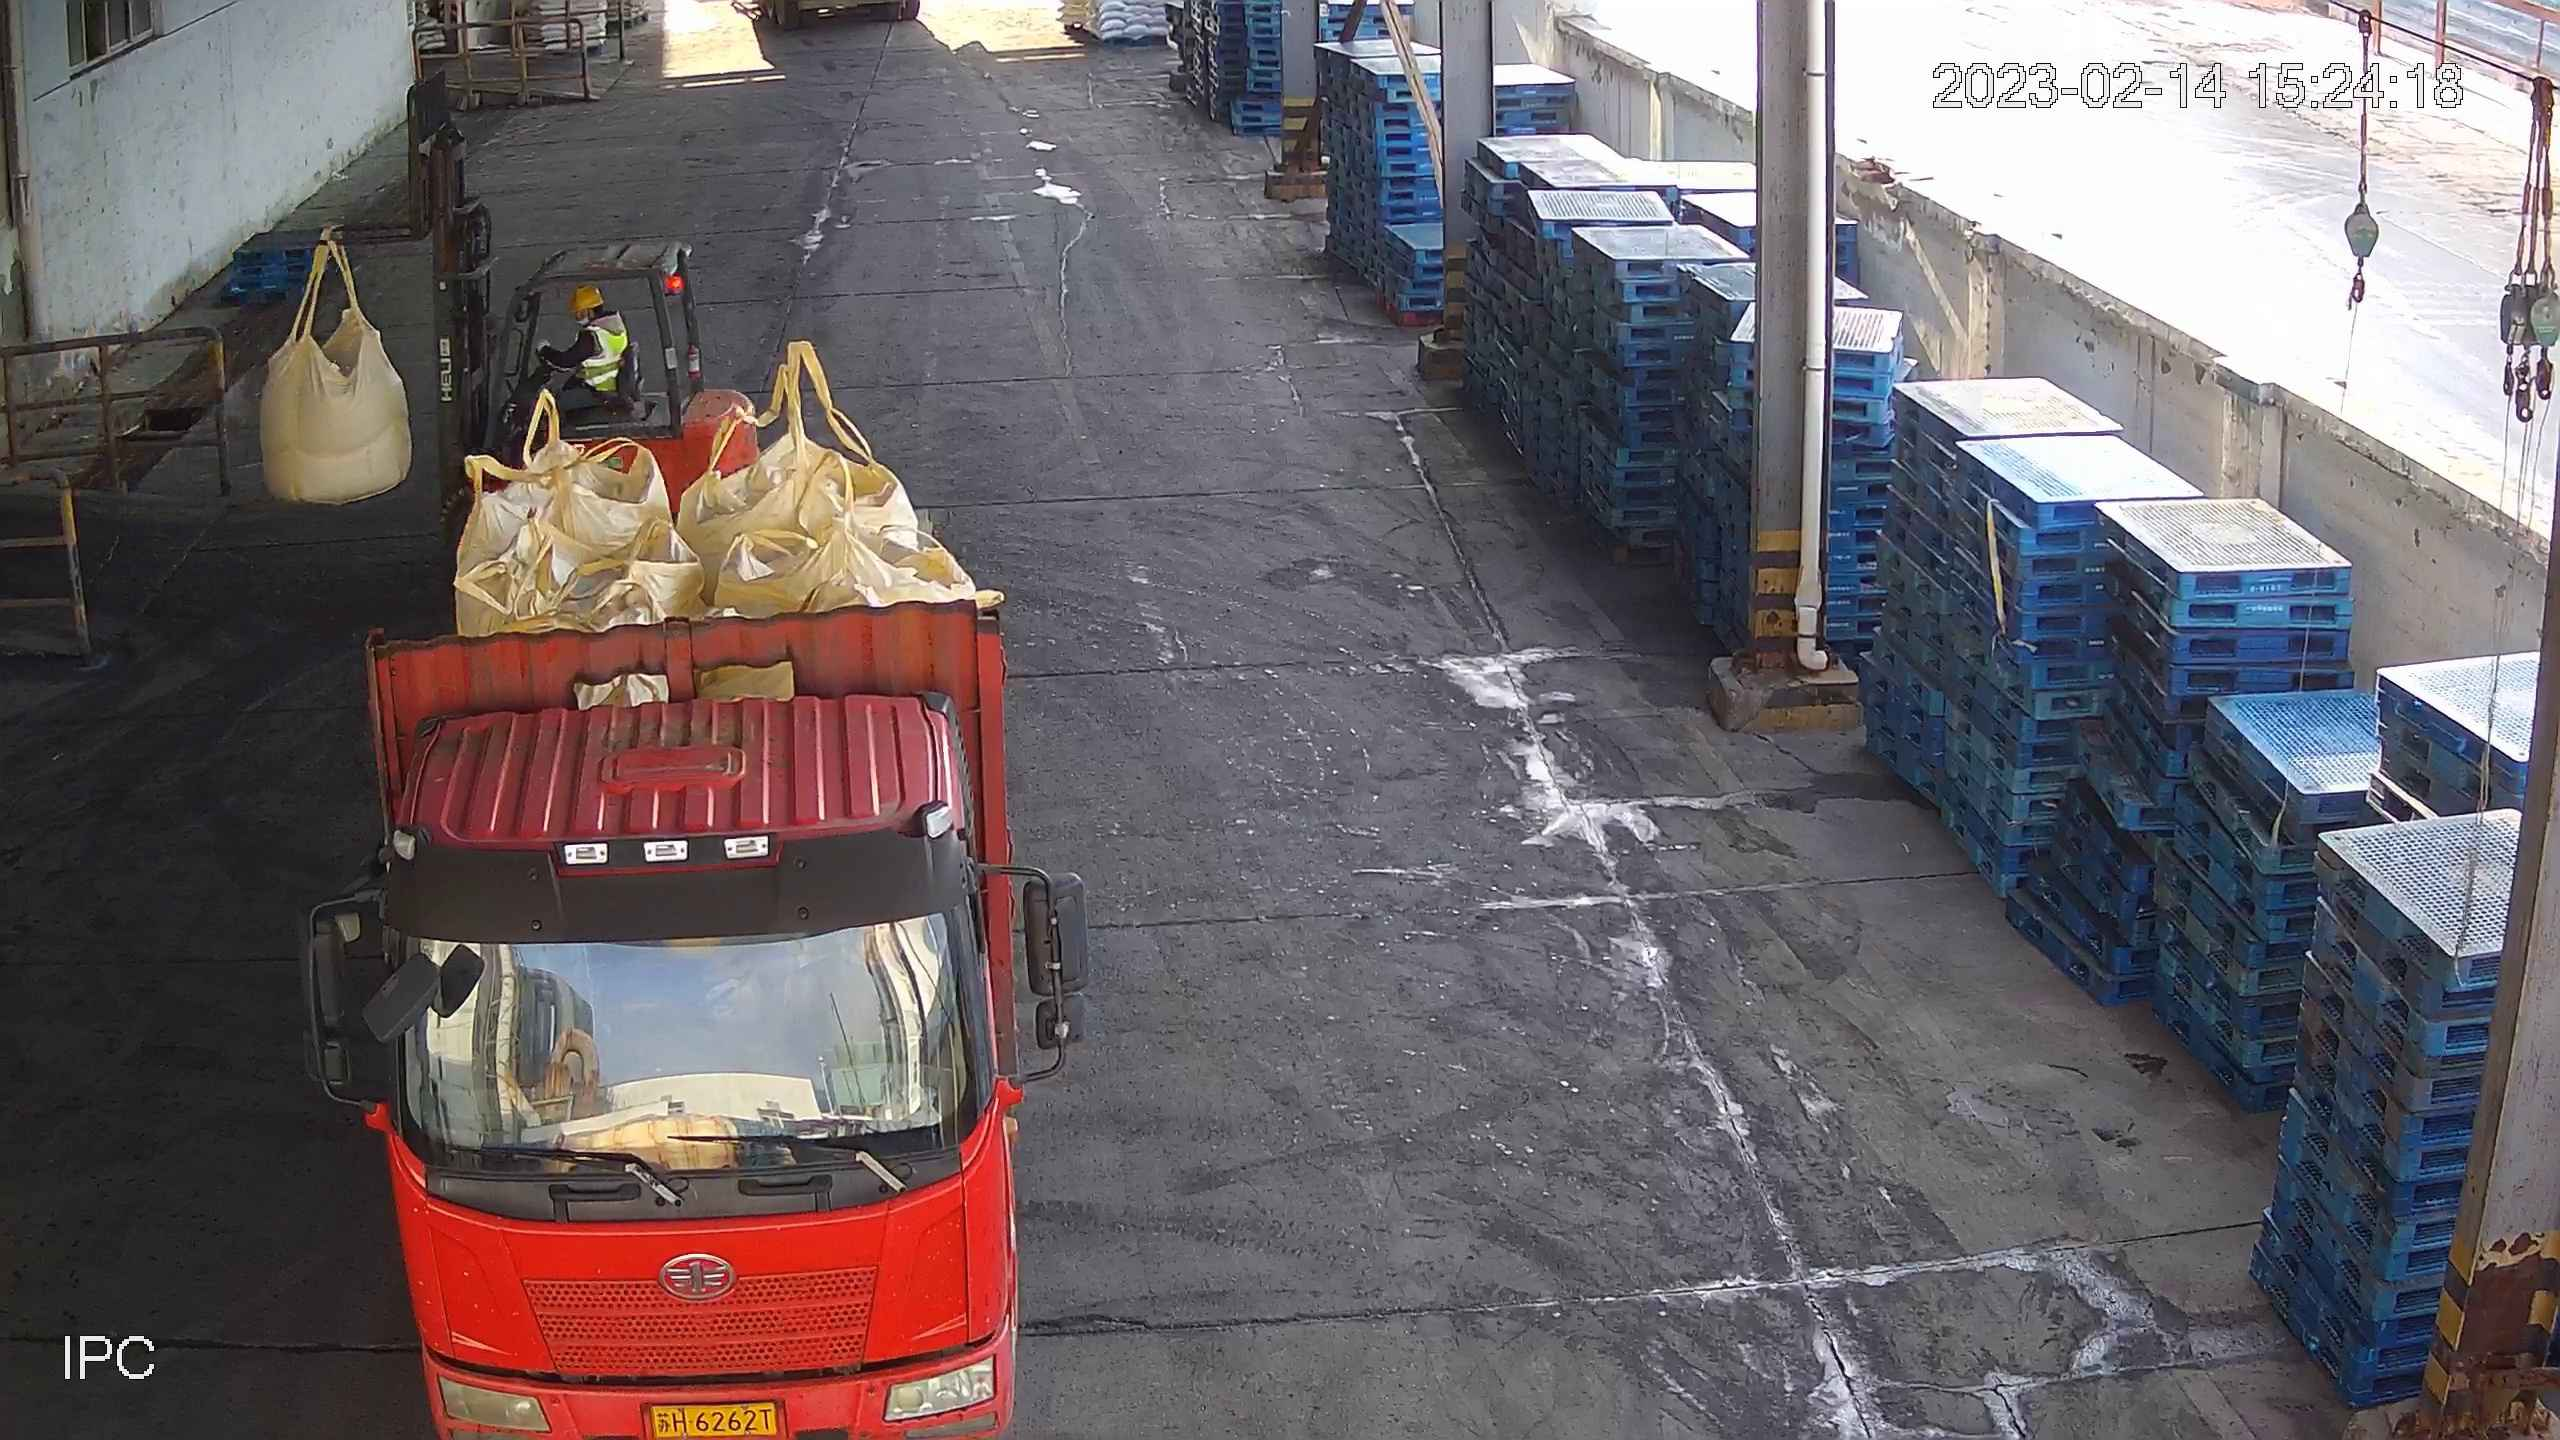head: (554, 275, 626, 357)
helmet: (567, 284, 601, 313)
people: (505, 281, 636, 438)
truck: (305, 373, 1111, 1436)
